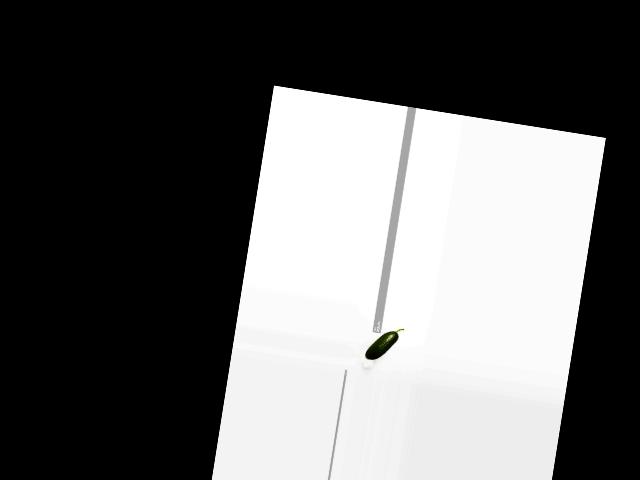cucumber: (364, 322, 403, 363)
